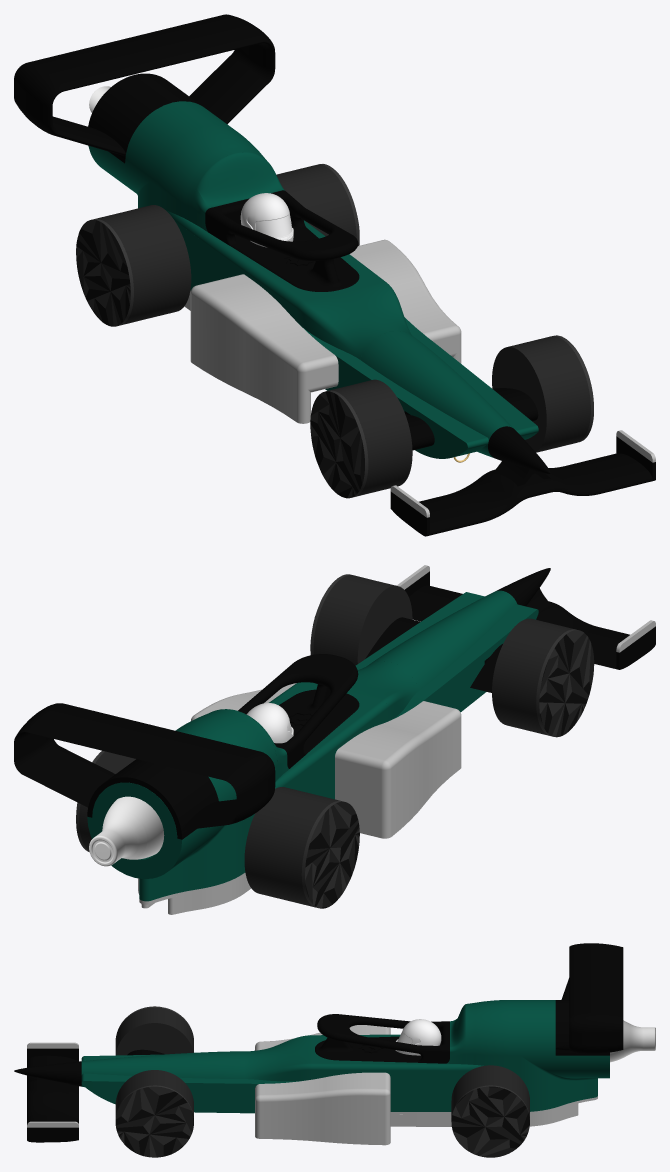
File: car-model.fbx
3 views of the same model, one above another, from view 1: azimuth 30°, elevation 25°; view 2: azimuth 150°, elevation 25°; view 3: azimuth 270°, elevation 25° (orthographic). The views are drawn at different scales.
Parts seen in each view (by area): view 1: Body1 (×7), Right Sidepod, Main Rear, Wing, Nose Cone 2, Middle/Nose Joint 2, Body3, Body4, Main Middle, Left Sidepod, Left Support, Main Clip (+9 smaller); view 2: Body1 (×7), Right Sidepod, Main Rear, Wing, Nose Cone 2, Body3, Body4, Left Support, Main Middle, Main Clip, MeshBody1, Right Support (+10 smaller); view 3: Body1 (×6), Main Rear, Left Sidepod, Main Middle, Body2, Body3, Wing, Nose Cone 2, Middle/Nose Joint 2, Car Front, Left Support, Left Wing Curve (+13 smaller).
Part boxes in pixels (box(x1,y1,x2,y2)): Body1 (×7): box(95, 164, 590, 496); Right Sidepod: box(190, 274, 338, 423); Main Rear: box(88, 101, 266, 248); Wing: box(27, 15, 261, 90); Nose Cone 2: box(360, 331, 514, 457); Middle/Nose Joint 2: box(297, 281, 412, 359); Body3: box(310, 390, 368, 498); Body4: box(76, 219, 133, 326); Main Middle: box(187, 220, 384, 321); Left Sidepod: box(349, 239, 461, 363); Left Support: box(189, 14, 275, 124); Main Clip: box(88, 73, 201, 163); Body1 (×7): box(79, 568, 575, 907); Right Sidepod: box(335, 701, 461, 838); Main Rear: box(87, 709, 277, 901); Wing: box(27, 703, 259, 780); Nose Cone 2: box(369, 590, 516, 689); Body3: box(536, 629, 594, 737); Body4: box(301, 801, 359, 908); Left Support: box(14, 703, 115, 807); Main Middle: box(269, 682, 388, 799); Main Clip: box(87, 759, 218, 839); MeshBody1: box(89, 796, 164, 866); Right Support: box(181, 751, 275, 830); Body1 (×6): box(14, 1007, 529, 1120); Main Rear: box(466, 1000, 609, 1111); Left Sidepod: box(255, 1072, 390, 1145); Main Middle: box(312, 1034, 466, 1111); Body2: box(115, 1085, 193, 1157); Body3: box(451, 1085, 529, 1157); Wing: box(569, 944, 623, 1016); Nose Cone 2: box(81, 1051, 244, 1087); Middle/Nose Joint 2: box(244, 1035, 311, 1081); Car Front: box(155, 1054, 258, 1113); Left Support: box(556, 1013, 623, 1053); Left Wing Curve: box(27, 1085, 78, 1124).
Size of the model in its own units: 71 by 56.5 by 237.
